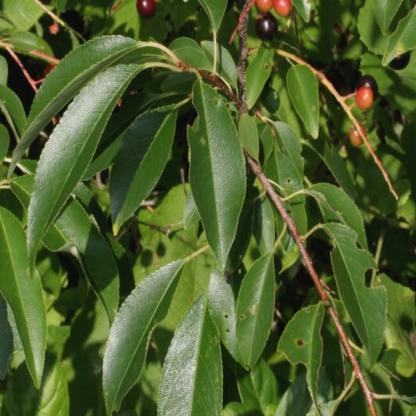Cherry leaf: (9, 18, 181, 256), (100, 252, 193, 415), (189, 77, 250, 274), (109, 103, 179, 238), (156, 297, 230, 415), (233, 247, 282, 377)
